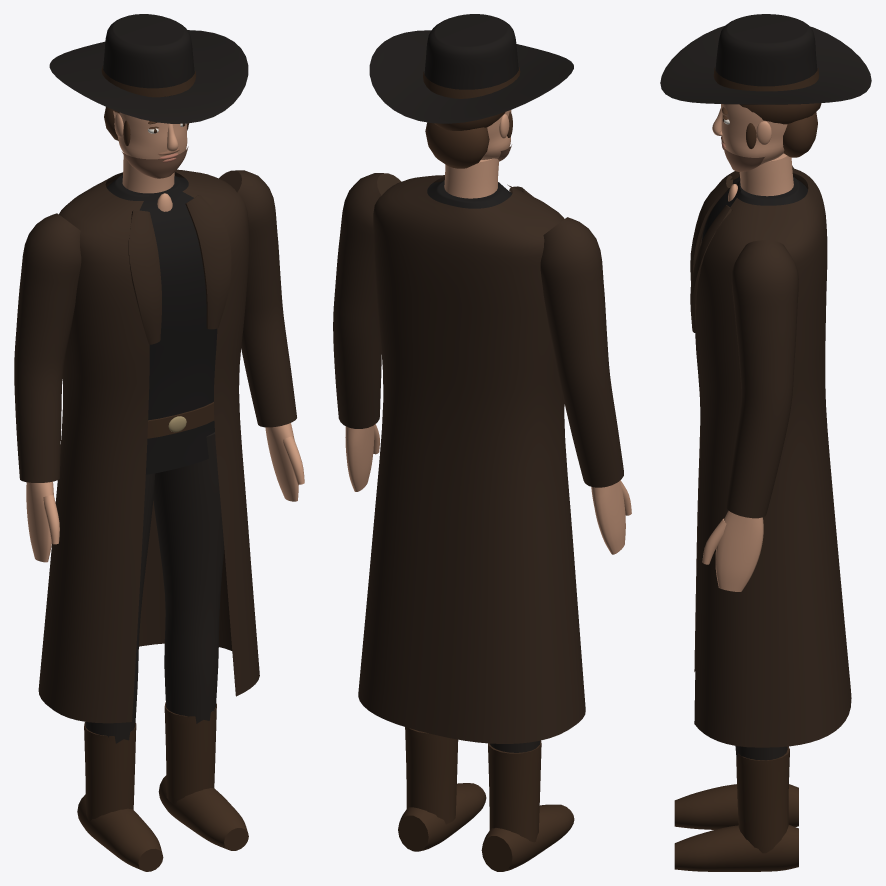
Rendered from victor.glb.
The picture shows the model from 3 angles, left to right: view 1: azimuth 30°, elevation 25°; view 2: azimuth 150°, elevation 25°; view 3: azimuth 270°, elevation 25°; orthographic projection. The views are drawn at different scales.
Visible parts, largest first — view 1: Victor_coat, Victor_trousers, Victor_leather, Victor_hat, Victor_shirt, Victor_skinVictor, Victor_stubble; view 2: Victor_coat, Victor_leather, Victor_hat, Victor_skinVictor, Victor_hairVictor, Victor_shirt; view 3: Victor_coat, Victor_hat, Victor_leather, Victor_skinVictor, Victor_hairVictor, Victor_shirt, Victor_trousers, Victor_stubble.
Boxes of the visible parts, x1,y1,x2,y2 form: Victor_coat: (14, 169, 296, 723); Victor_trousers: (85, 432, 224, 743); Victor_leather: (77, 66, 248, 871); Victor_hat: (49, 14, 248, 123); Victor_shirt: (106, 175, 217, 474); Victor_skinVictor: (26, 111, 304, 562); Victor_stubble: (122, 146, 188, 178); Victor_coat: (333, 173, 623, 743); Victor_leather: (398, 67, 574, 871); Victor_hat: (369, 14, 573, 123); Victor_skinVictor: (345, 110, 631, 554); Victor_hairVictor: (425, 111, 512, 168); Victor_shirt: (427, 180, 512, 208); Victor_coat: (690, 165, 851, 747); Victor_hat: (660, 14, 871, 104); Victor_leather: (674, 68, 819, 871); Victor_skinVictor: (702, 104, 793, 591); Victor_hairVictor: (722, 103, 821, 157); Victor_shirt: (701, 176, 807, 241); Victor_trousers: (735, 746, 787, 760); Victor_stubble: (721, 135, 764, 171).
Size of the model in its own units: 0.6557 by 1.84 by 0.43.
